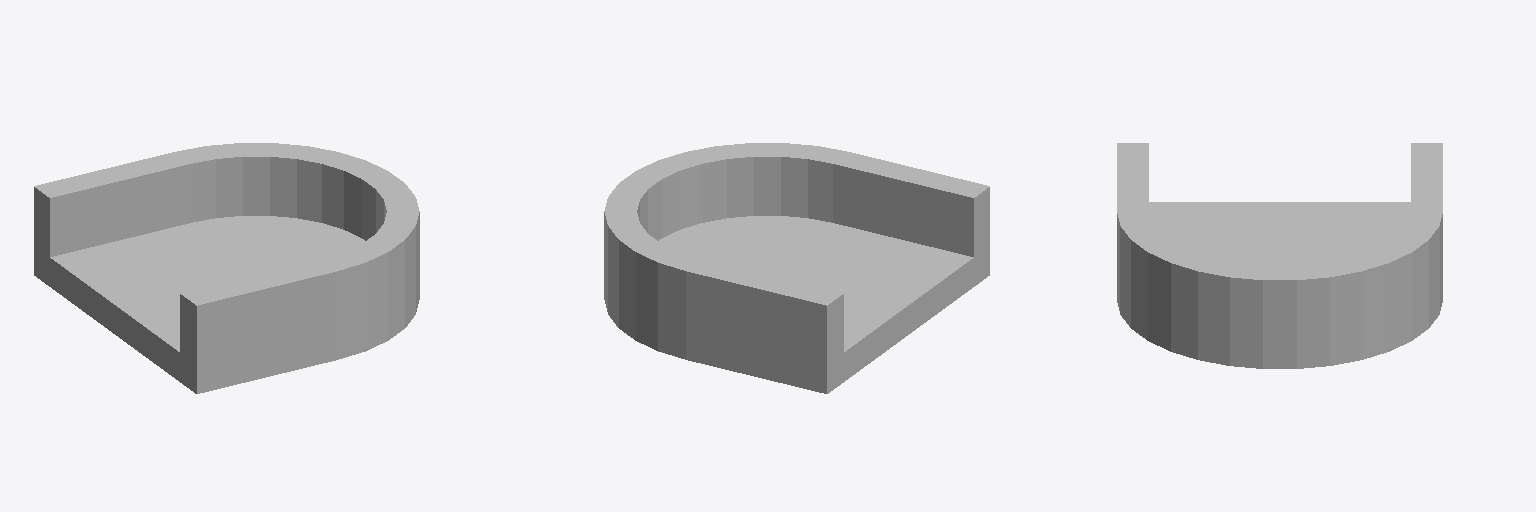
The model's file is Start.obj.
3 views of the same model, side by side, from view 1: azimuth 30°, elevation 25°; view 2: azimuth 150°, elevation 25°; view 3: azimuth 270°, elevation 25° (orthographic).
Parts seen in each view (by area): view 1: Start; view 2: Start; view 3: Start.
Part boxes in pixels (x1,y1,x2,y2): Start: (34,143,419,393); Start: (604,143,989,393); Start: (1117,143,1442,368).
Bounding box in the file's own units: 1.99 × 0.6 × 2.